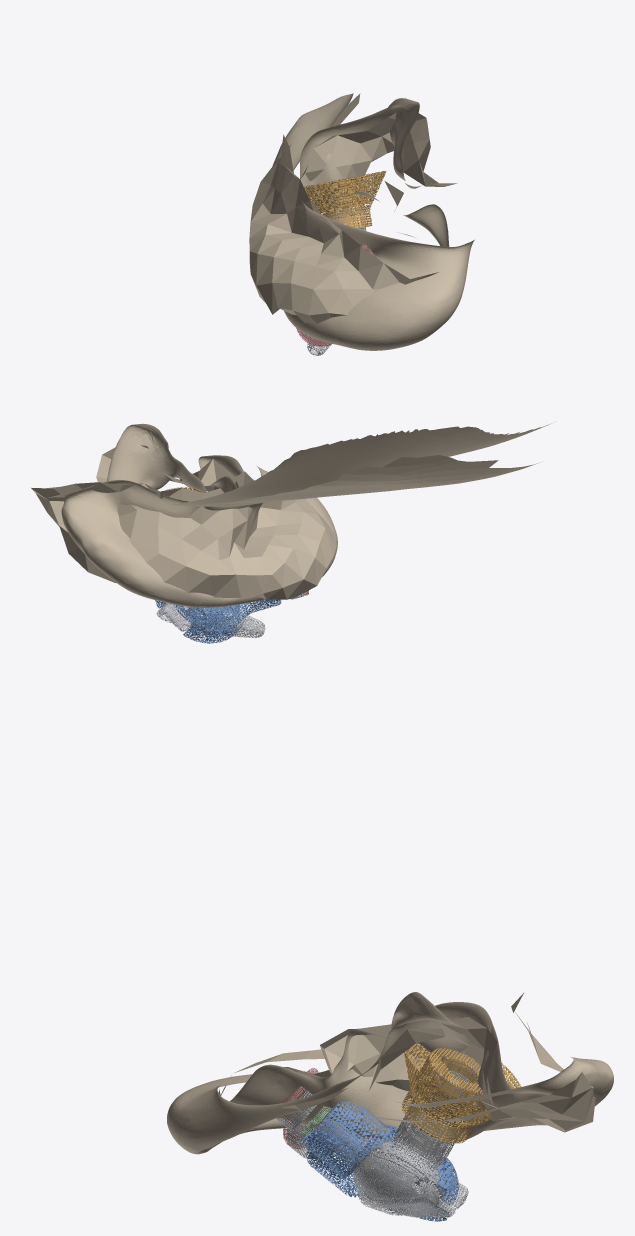
Rendered from seated_scene.glb.
3 views of the same model, one above another, from view 1: azimuth 30°, elevation 25°; view 2: azimuth 150°, elevation 25°; view 3: azimuth 270°, elevation 25° (orthographic). The views are drawn at different scales.
Visible parts, largest first — view 1: ear, carrier; view 2: ear, jacket_wing, core; view 3: ear, carrier, jacket_wing, core, faceplate, nozzle_insert_short.
Part boxes in pixels (x1,y1,x2,y2): ear: (249,93,474,350); carrier: (304,171,386,228); ear: (31,422,554,607); jacket_wing: (155,599,281,643); core: (156,603,265,638); ear: (167,992,613,1154); carrier: (401,1043,521,1143); jacket_wing: (301,1101,458,1221); core: (355,1120,468,1217); faceplate: (353,1156,438,1217); nozzle_insert_short: (394,1070,474,1165).
Size of the model in its own units: 84.99 by 59.42 by 84.99.
